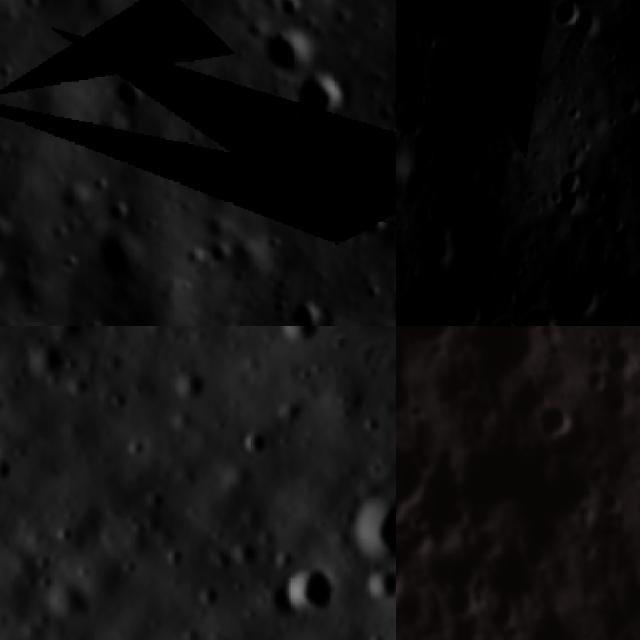crater: (327, 463, 396, 584), (269, 544, 357, 628), (396, 420, 444, 554), (10, 328, 84, 406), (158, 359, 218, 418), (291, 65, 346, 127), (531, 383, 585, 444), (553, 272, 612, 326), (261, 32, 323, 82), (246, 326, 331, 362), (226, 412, 278, 466), (352, 552, 396, 613), (594, 333, 640, 384), (0, 430, 28, 501), (614, 564, 640, 635), (484, 597, 526, 638), (285, 296, 338, 326), (106, 80, 151, 115), (621, 195, 640, 273), (357, 206, 396, 243), (551, 0, 585, 38), (525, 624, 604, 640), (508, 305, 559, 326), (381, 562, 396, 631), (0, 211, 15, 254), (489, 310, 522, 326)
